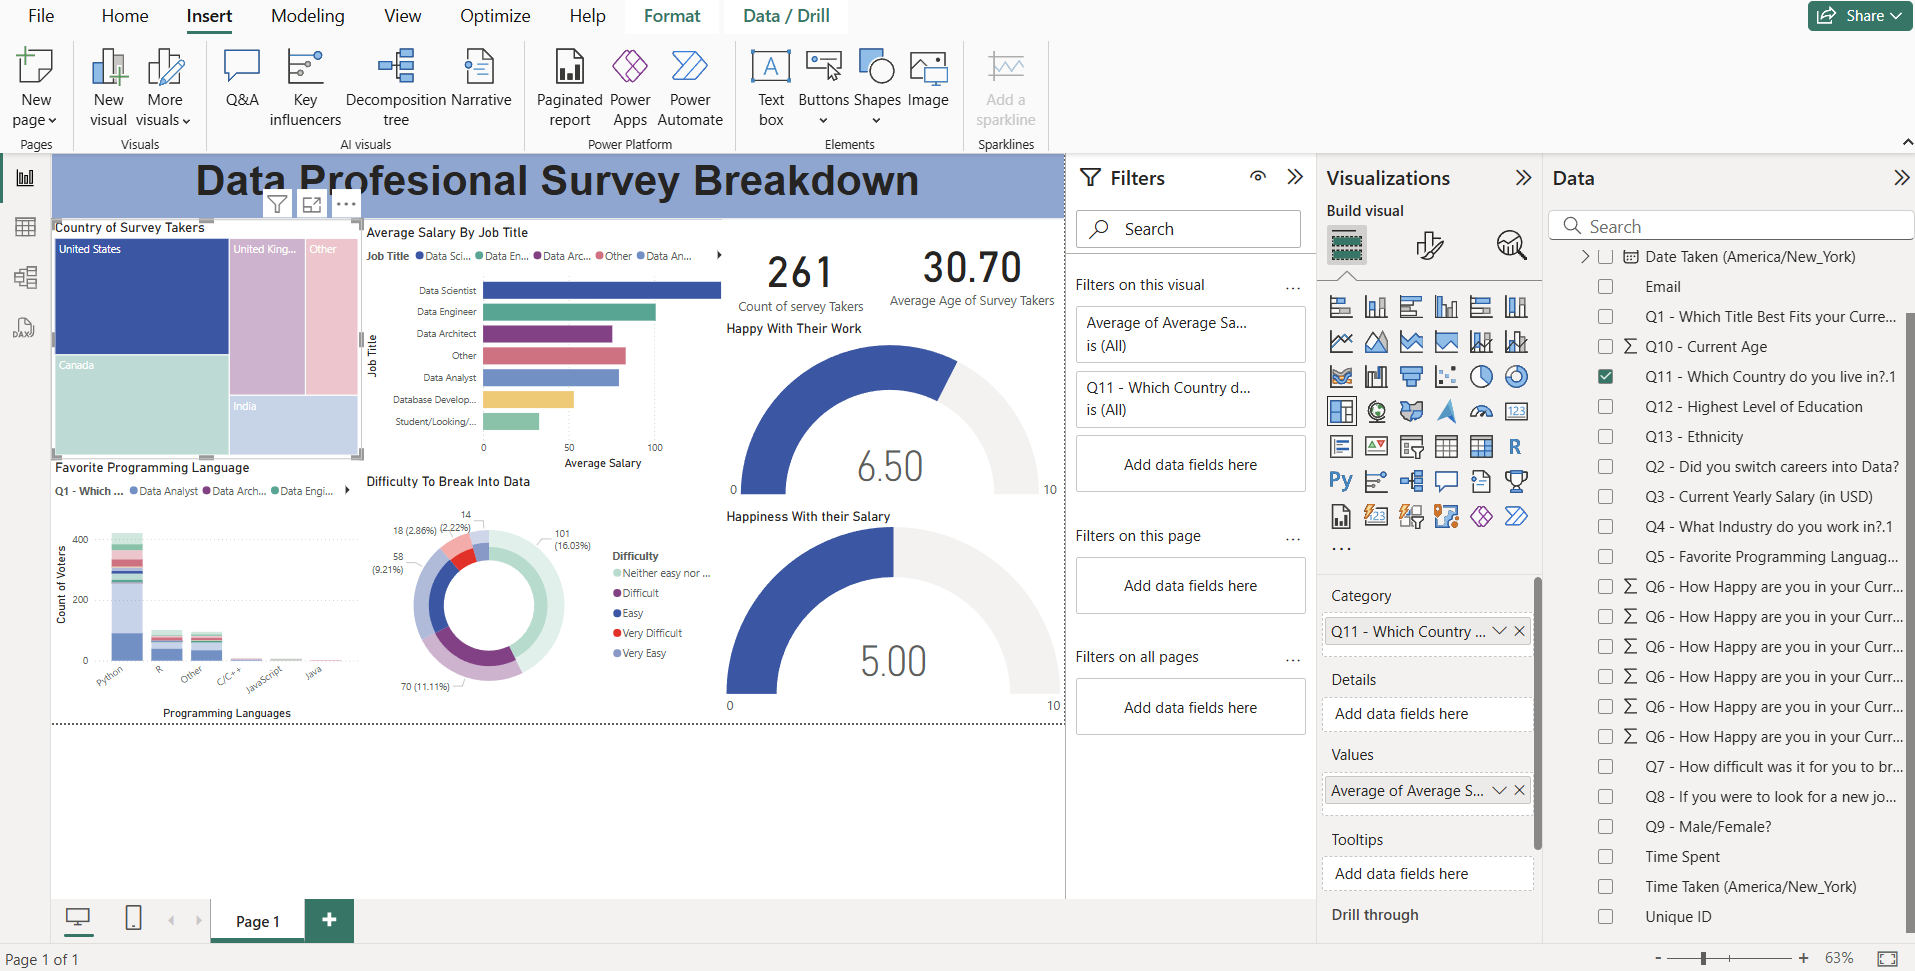

What the dashboard file says about the page in this screenshot:
{"tool":"powerbi","page":{"name":"Page 1","canvas":[1280,720],"ordinal":0},"visuals":[{"type":"textbox","box":[0,0,1280.3,83.7],"z":0},{"type":"card","fields":{"Values":["CountNonNull(Data Professional Survey.Unique ID)"]},"box":[847.8,83.7,198.9,142.1],"z":1000},{"type":"card","fields":{"Values":["Avg(Data Professional Survey.Q10 - Current Age)"]},"box":[1046.7,83.7,233.6,127.9],"z":2000},{"type":"barChart","title":"Average Salary By Job Title","fields":{"Category":["Data Professional Survey.Q1 - Which Title Best Fits your Current Role?.1"],"Y":["Avg(Data Professional Survey.Average Salary)"],"Series":["Data Professional Survey.Q1 - Which Title Best Fits your Current Role?.1"]},"box":[393.1,90,470.5,314.2],"z":3000},{"type":"columnChart","title":"Favorite Programming Language","fields":{"Category":["Data Professional Survey.Q5 - Favorite Programming Language.1"],"Y":["CountNonNull(Data Professional Survey.Unique ID)"],"Series":["Data Professional Survey.Q1 - Which Title Best Fits your Current Role?.1"]},"box":[0,386.8,393.1,333.1],"z":4000},{"type":"treemap","title":"Country of Survey Takers","fields":{"Group":["Data Professional Survey.Q11 - Which Country do you live in?.1"],"Values":["Avg(Data Professional Survey.Average Salary)"]},"box":[0,83.7,393.1,303.1],"z":5000},{"type":"gauge","title":"Happy With Their Work","fields":{"Y":["Avg(Data Professional Survey.Q6 - How Happy are you in your Current Position with the following? (Coworkers))"],"MinValue":["Min(Data Professional Survey.Q6 - How Happy are you in your Current Position with the following? (Coworkers))1"],"MaxValue":["Max(Data Professional Survey.Q6 - How Happy are you in your Current Position with the following? (Coworkers))2"]},"box":[847.8,211.5,432.6,236.8],"z":6000},{"type":"gauge","title":"Happiness With their Salary","fields":{"Y":["Avg(Data Professional Survey.Q6 - How Happy are you in your Current Position with the following? (Salary))"],"MinValue":["Min(Data Professional Survey.Q6 - How Happy are you in your Current Position with the following? (Salary))"],"MaxValue":["Max(Data Professional Survey.Q6 - How Happy are you in your Current Position with the following? (Salary))"]},"box":[847.8,448.3,432.6,271.5],"z":7000},{"type":"donutChart","title":"Difficulty To Break Into Data","fields":{"Category":["Data Professional Survey.Q7 - How difficult was it for you to break into Data?"],"Y":["CountNonNull(Data Professional Survey.Average Salary)"]},"box":[393.1,404.1,454.7,315.7],"z":8000}]}

Visuals, with their boxes on the page's 1280x720 design canvas (x1, y1, x2, y2). These are canvas units, not pixel positions in the 1915x971 screenshot, which may show the page scaled, cropped or inside an application window:
textbox: locate(0, 0, 1280, 84)
card - CountNonNull(Data Professional Survey.Unique ID): locate(848, 84, 1047, 226)
card - Avg(Data Professional Survey.Q10 - Current Age): locate(1047, 84, 1280, 212)
"Average Salary By Job Title" barChart: locate(393, 90, 864, 404)
"Favorite Programming Language" columnChart: locate(0, 387, 393, 720)
"Country of Survey Takers" treemap: locate(0, 84, 393, 387)
"Happy With Their Work" gauge: locate(848, 212, 1280, 448)
"Happiness With their Salary" gauge: locate(848, 448, 1280, 720)
"Difficulty To Break Into Data" donutChart: locate(393, 404, 848, 720)
